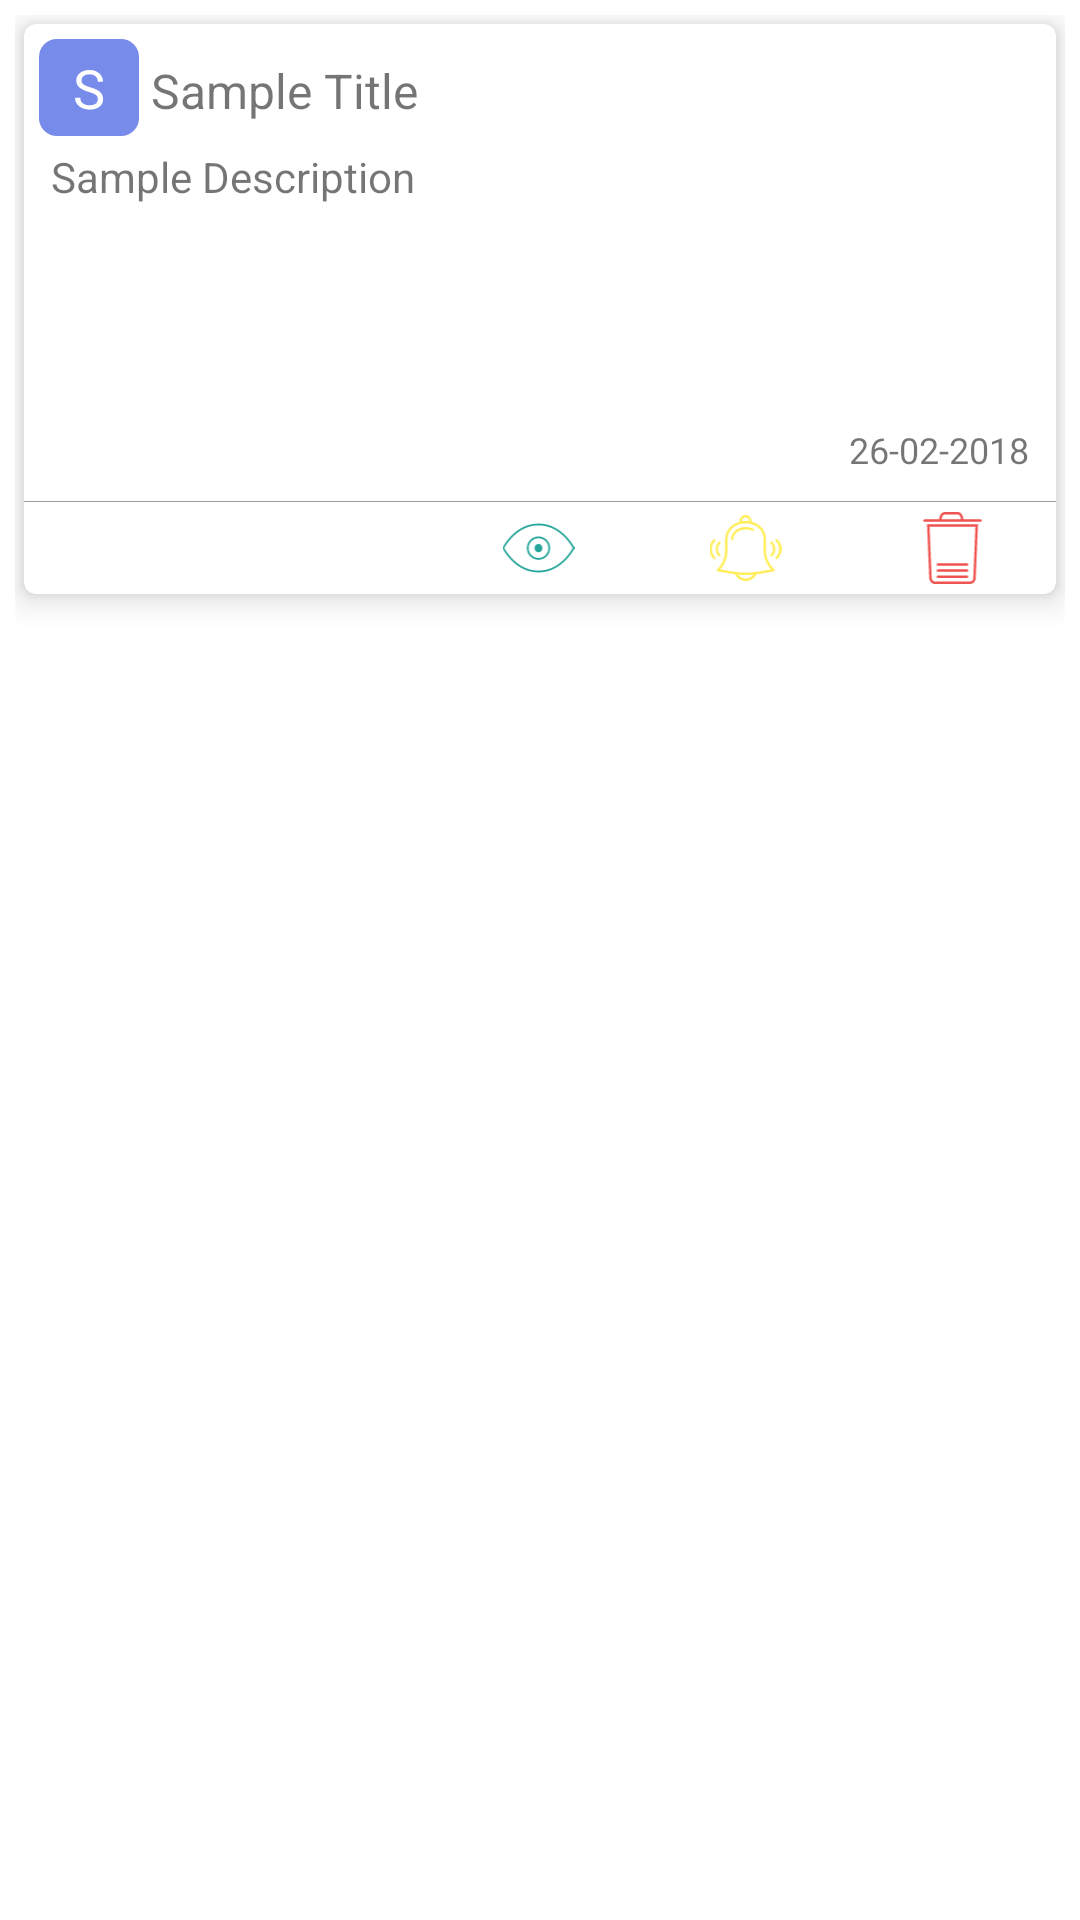

Icon click points for this 1080w x 1920h phone screenshot, format (x,y):
reminder: (746,548)
trash: (952,548)
view: (539,548)
